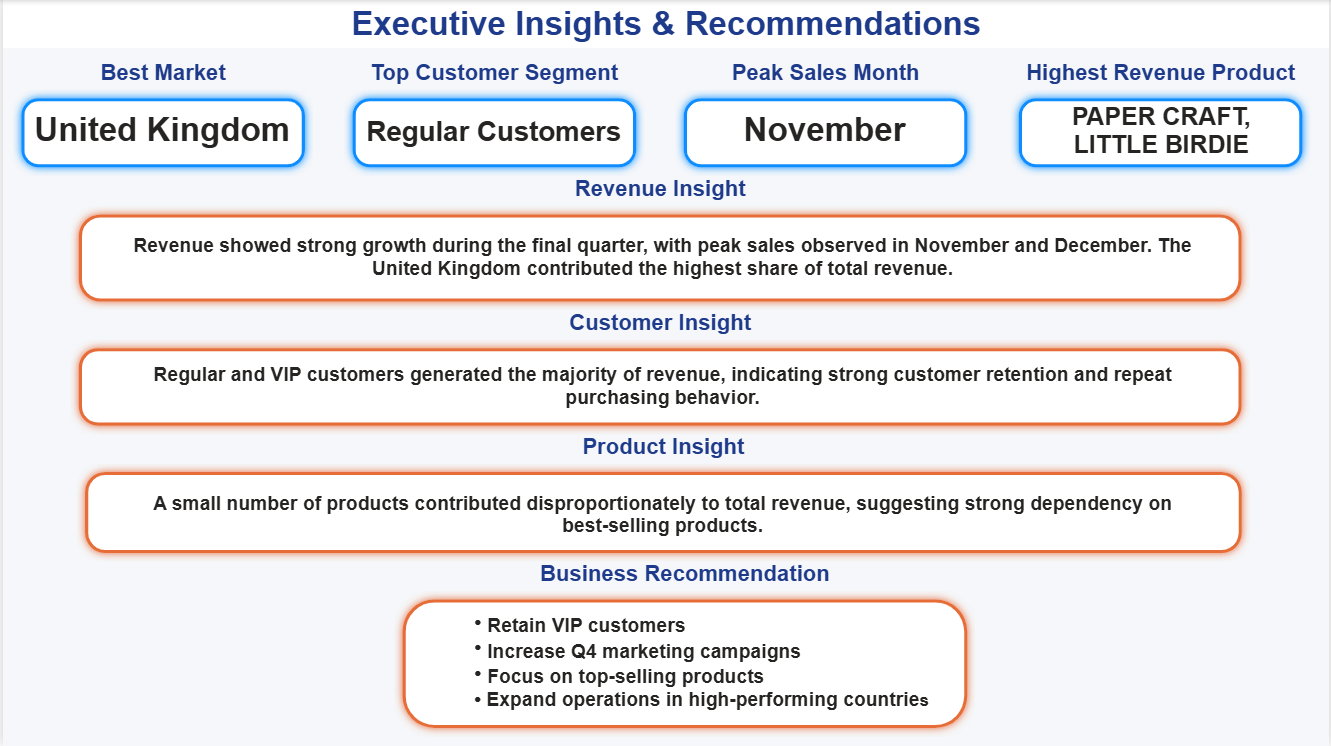

The dashboard page shown, as its layout file describes it:
{"tool":"powerbi","page":{"name":"Executive Insights","canvas":[1280,720],"ordinal":3},"visuals":[{"type":"textbox","box":[0,0,1280.2,46.6],"z":0},{"type":"shape","title":"Best Market","box":[9.3,58.2,289.8,111.7],"z":1000},{"type":"shape","title":"Top Customer Segment","box":[329.4,58.2,289.8,111.7],"z":2000},{"type":"shape","title":"Peak Sales Month","box":[649.4,58.2,289.8,111.7],"z":3000},{"type":"shape","title":"Highest Revenue Product","box":[973,58.2,289.8,111.7],"z":4000},{"type":"textbox","box":[687.8,102.4,210.7,47.7],"z":5000},{"type":"textbox","box":[18.6,102.4,271.2,59.4],"z":6000},{"type":"textbox","box":[988.1,94.3,259.5,67.5],"z":7000},{"type":"textbox","box":[338.6,107.1,269.3,54.3],"z":8000},{"type":"shape","title":"Revenue Insight","box":[65.2,169.9,1138.2,129.2],"z":9000},{"type":"textbox","box":[116.4,222.3,1041.6,68.7],"z":10000},{"type":"shape","title":"Customer Insight","box":[65.2,299.1,1138.2,119.9],"z":11000},{"type":"shape","title":"Business Recommendation","box":[377.4,542.1,561,169.2],"z":12000},{"type":"shape","title":"Product Insight","box":[71,419,1132.4,123.4],"z":13000},{"type":"textbox","box":[116.4,346.8,1041.6,62.8],"z":14000},{"type":"textbox","box":[116.4,470.2,1041.6,60.5],"z":15000},{"type":"textbox","box":[434.1,585.4,519.1,125.7],"z":16000}]}

Visuals, with their boxes in screenshot pixels (x1, y1, x2, y2), scaled from the page's 1280x720 canvas onto the 1331x746 screenshot:
textbox: [0,0,1330,48]
"Best Market" shape: [10,60,311,176]
"Top Customer Segment" shape: [343,60,644,176]
"Peak Sales Month" shape: [675,60,977,176]
"Highest Revenue Product" shape: [1012,60,1313,176]
textbox: [715,106,934,156]
textbox: [19,106,301,168]
textbox: [1027,98,1297,168]
textbox: [352,111,632,167]
"Revenue Insight" shape: [68,176,1251,310]
textbox: [121,230,1204,302]
"Customer Insight" shape: [68,310,1251,434]
"Business Recommendation" shape: [392,562,976,737]
"Product Insight" shape: [74,434,1251,562]
textbox: [121,359,1204,424]
textbox: [121,487,1204,550]
textbox: [451,607,991,737]
